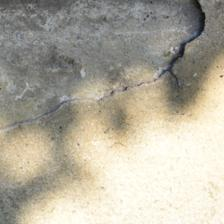Crack: (128, 0, 192, 83), (49, 83, 117, 127)
